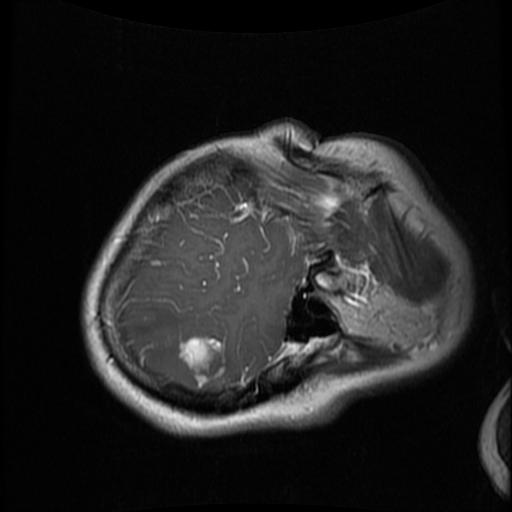glioma: (177, 338, 223, 391)
